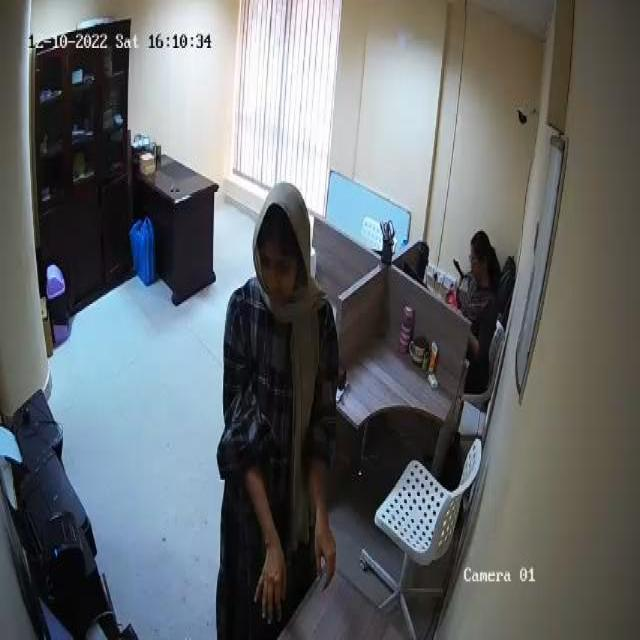bare_hand: (254, 551, 289, 631), (314, 526, 336, 594)
